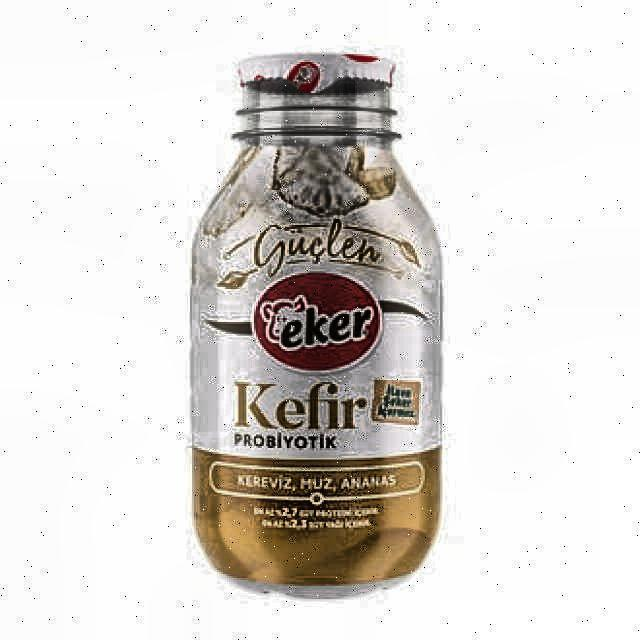glass: (186, 37, 446, 600)
